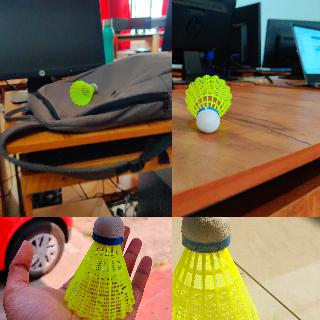shuttlecock: (172, 217, 260, 319), (63, 217, 135, 319), (184, 75, 232, 132), (69, 80, 97, 106)
